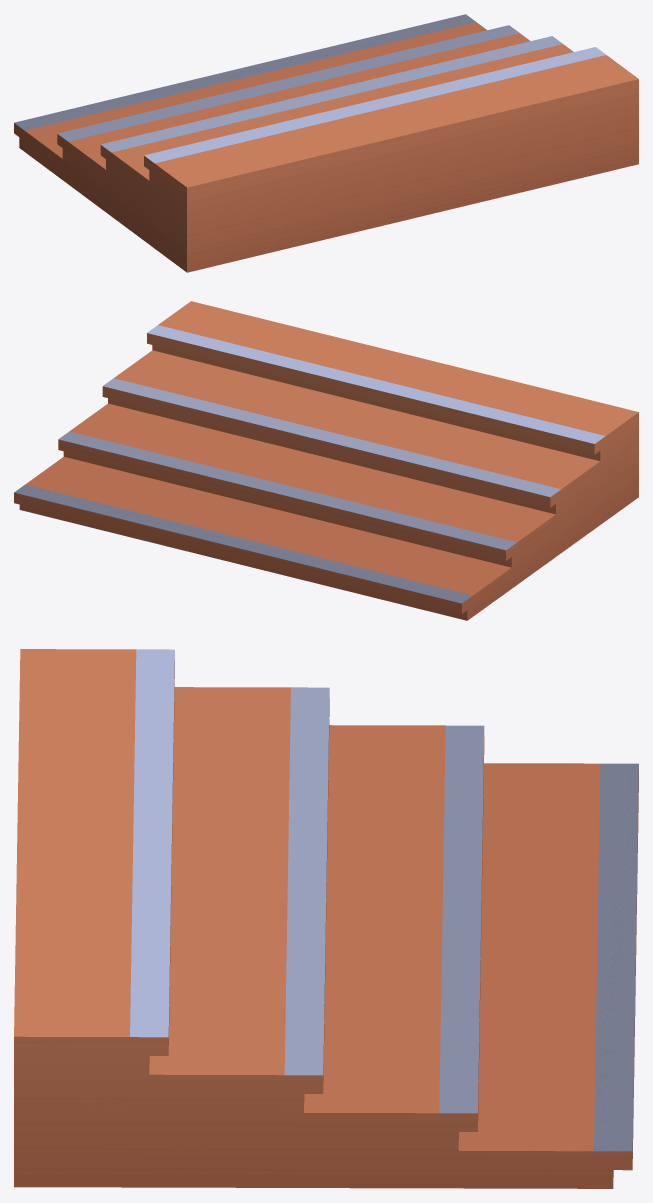
Rendered from steps_lev2.glb.
3 renders of one model, top to bottom at view 1: azimuth 30°, elevation 25°; view 2: azimuth 150°, elevation 25°; view 3: azimuth 270°, elevation 25°, orthographic. The views are drawn at different scales.
Parts seen in each view (by area): view 1: steps_lev2; view 2: steps_lev2; view 3: steps_lev2.
Part boxes in pixels (x1=…): steps_lev2: x1=14, y1=14, x2=638, y2=272; steps_lev2: x1=14, y1=301, x2=638, y2=620; steps_lev2: x1=14, y1=649, x2=638, y2=1188.
Bounding box in the file's own units: 5.31 × 0.9558 × 3.6.
Materials: 1 (1 with a texture image).
